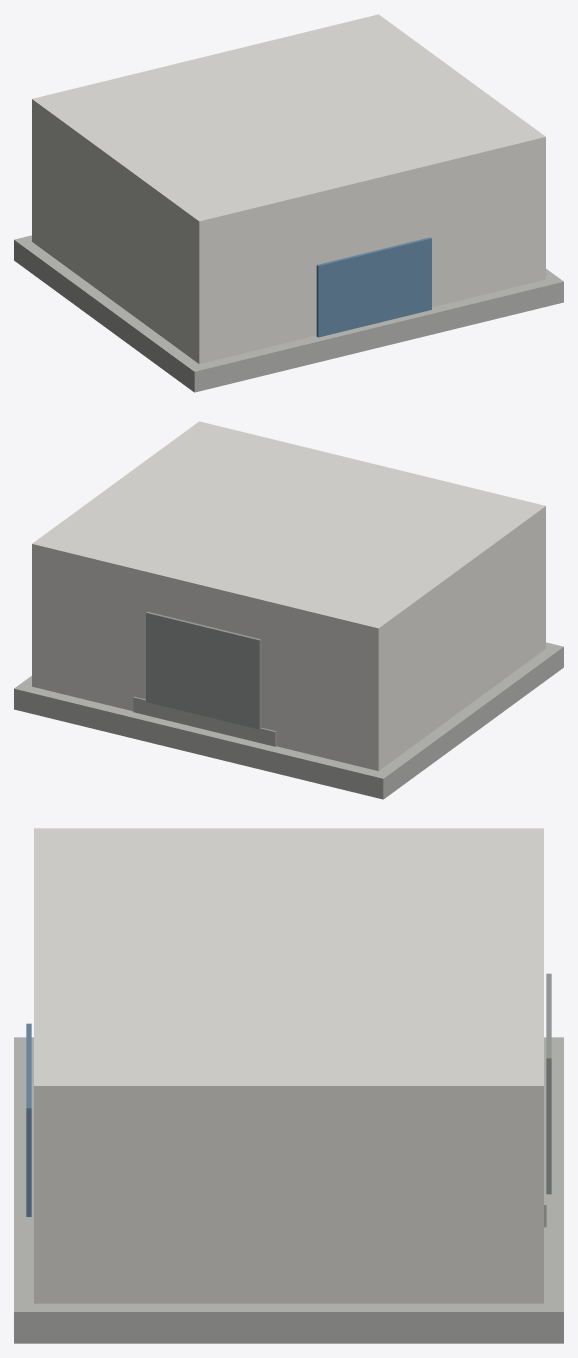
File: post_office_civic.glb
3 views of the same model, one above another, from view 1: azimuth 30°, elevation 25°; view 2: azimuth 150°, elevation 25°; view 3: azimuth 270°, elevation 25° (orthographic). The views are drawn at different scales.
Visible parts, largest first — view 1: post_office_civic; view 2: post_office_civic; view 3: post_office_civic.
Part boxes in pixels (left/top/right/bottom): post_office_civic: left=14, top=14, right=563, bottom=392; post_office_civic: left=14, top=421, right=563, bottom=799; post_office_civic: left=14, top=828, right=563, bottom=1343.
Size of the model in its own units: 13 by 5.5 by 11.
